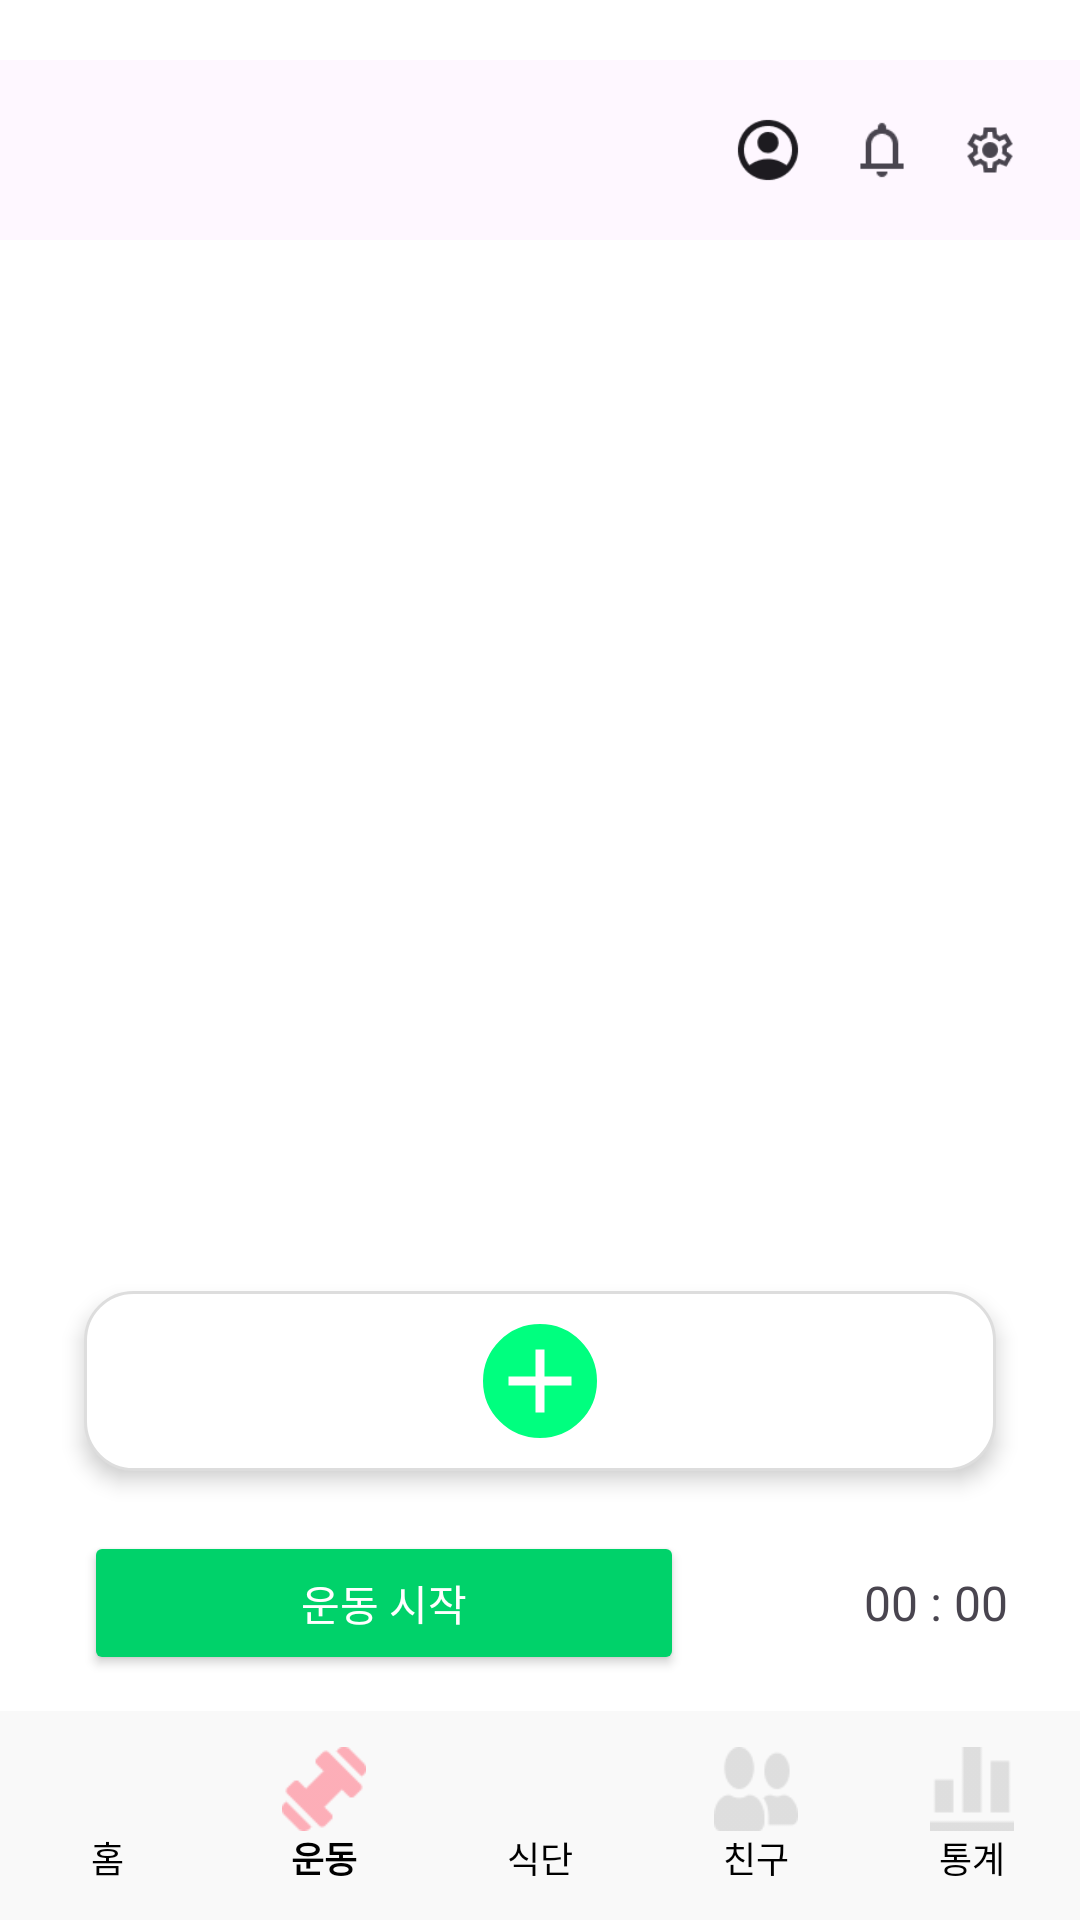

Icon bounding boxes for this 1080 x 1920 phone screenshot, format detection(x1, y1, x2, y2):
alarm: detection(860, 123, 904, 177)
profile: detection(738, 120, 798, 180)
setting: detection(967, 127, 1013, 173)
운동 추가: detection(483, 1324, 597, 1438)
